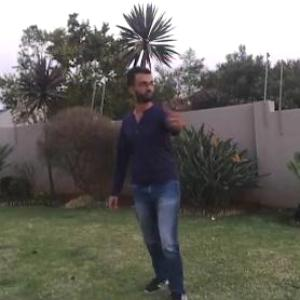takeoff-hand: (159, 96, 193, 132)
